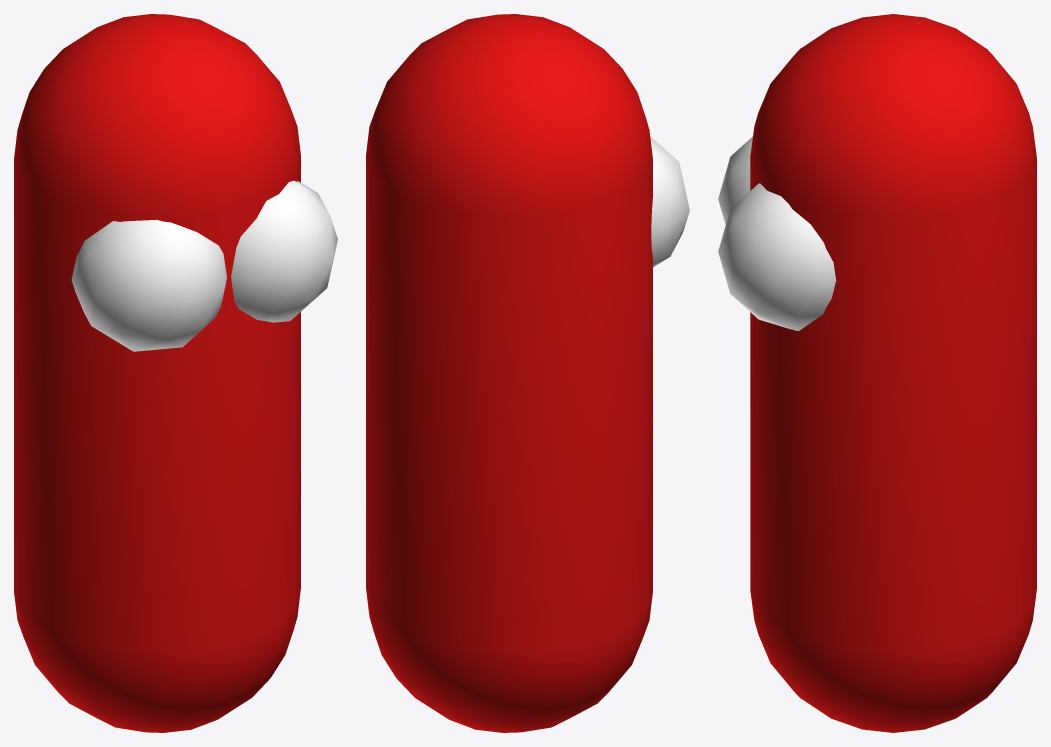
File: player.fbx
3 views of the same model, side by side, from view 1: azimuth 30°, elevation 25°; view 2: azimuth 150°, elevation 25°; view 3: azimuth 270°, elevation 25° (orthographic).
Parts seen in each view (by area): view 1: NPC; view 2: NPC; view 3: NPC.
Part boxes in pixels (left/top/right/bottom): NPC: left=14, top=14, right=337, bottom=732; NPC: left=366, top=14, right=689, bottom=732; NPC: left=718, top=14, right=1036, bottom=732.
Size of the model in its own units: 60 by 160 by 66.73.
